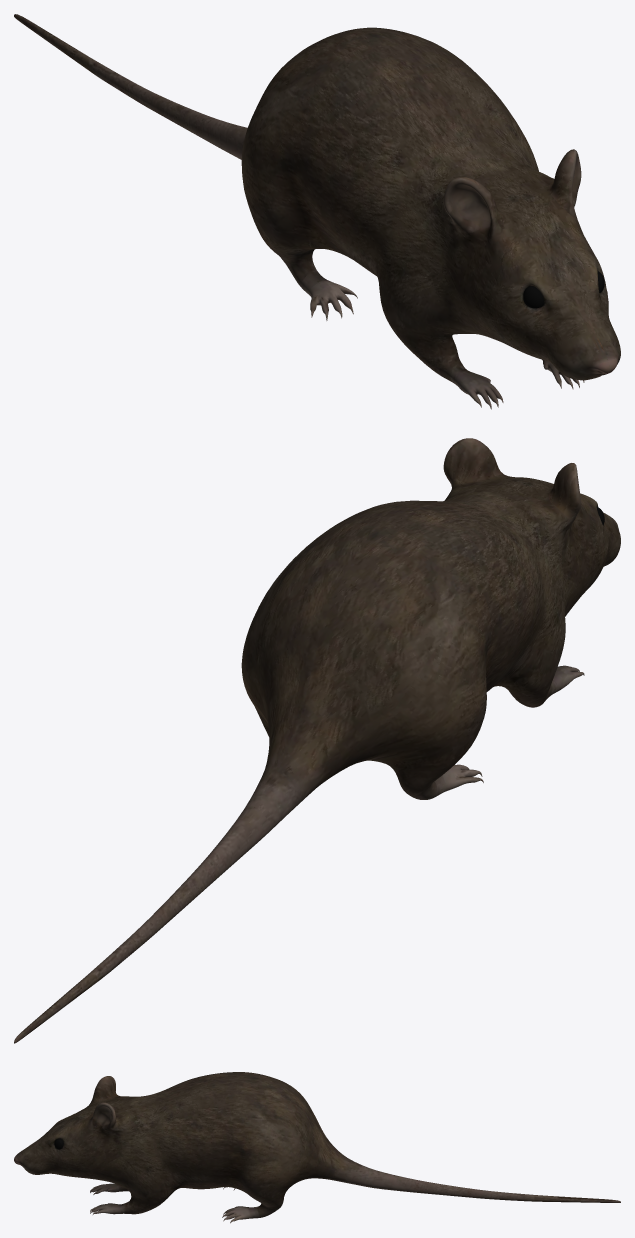
File: street_rat.glb
3 views of the same model, one above another, from view 1: azimuth 30°, elevation 25°; view 2: azimuth 150°, elevation 25°; view 3: azimuth 270°, elevation 25° (orthographic). The views are drawn at different scales.
Parts seen in each view (by area): view 1: street_rat; view 2: street_rat; view 3: street_rat.
Boxes of the visible parts, box(x1,y1,x2,y2) form: street_rat: box(14, 14, 620, 409); street_rat: box(14, 438, 620, 1043); street_rat: box(14, 1072, 620, 1223).
Bounding box in the file's own units: 0.032 × 0.0339 × 0.1483.
1 material, 1 textured.
